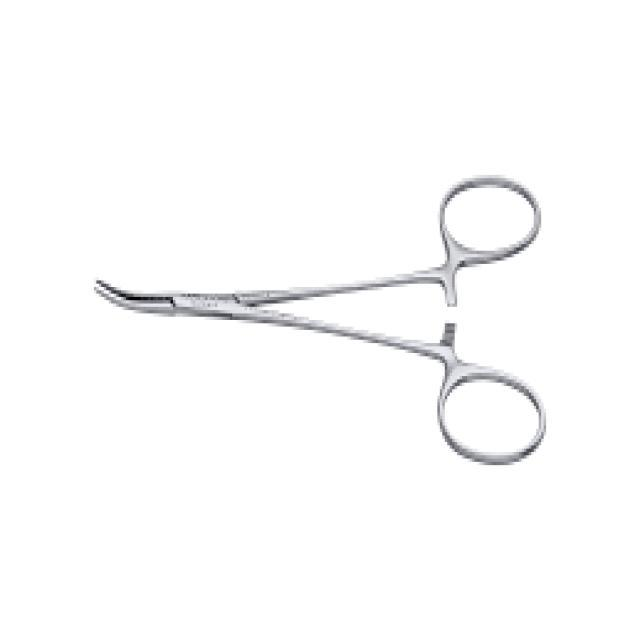Artery Forceps: (98, 173, 550, 477)
